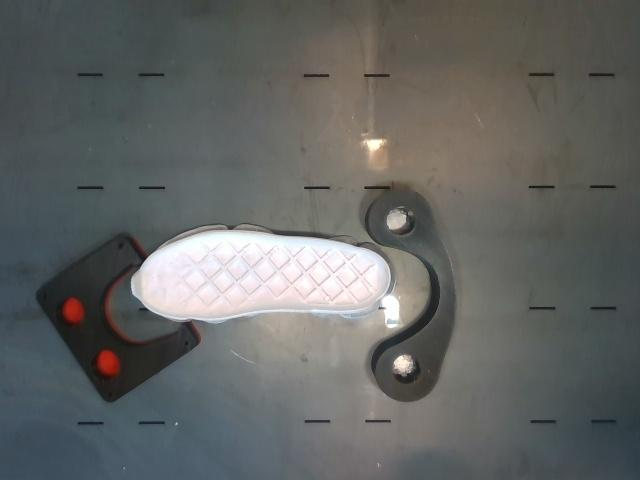shoes: (132, 232, 390, 319)
